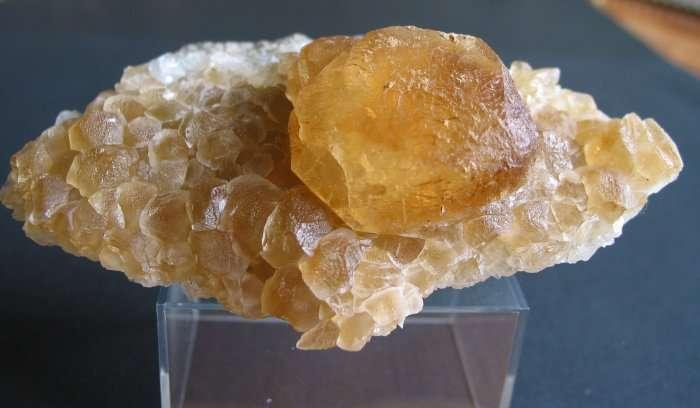calcite: (0, 26, 684, 351)
